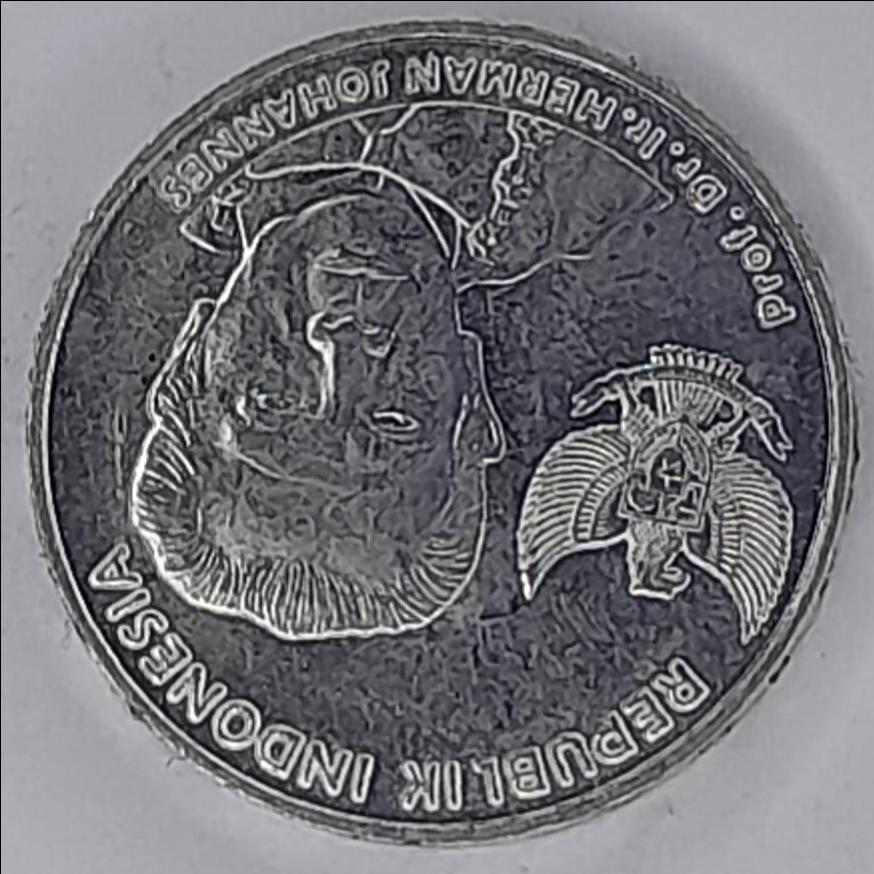coin_100_e2016: (21, 13, 865, 847)
